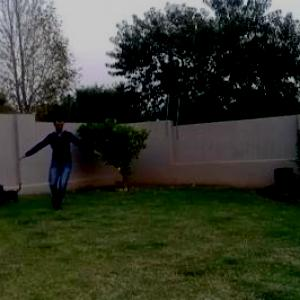land: (29, 108, 116, 211)
